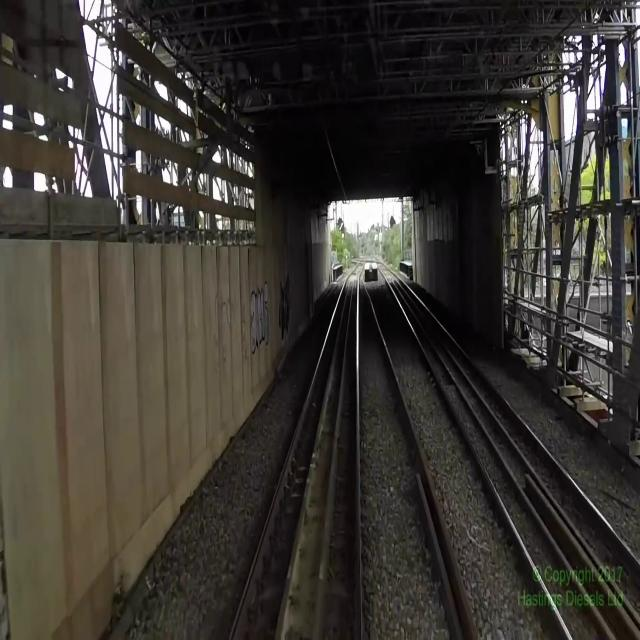rail-track: (372, 256, 640, 639), (233, 264, 362, 639), (635, 630, 640, 639)
